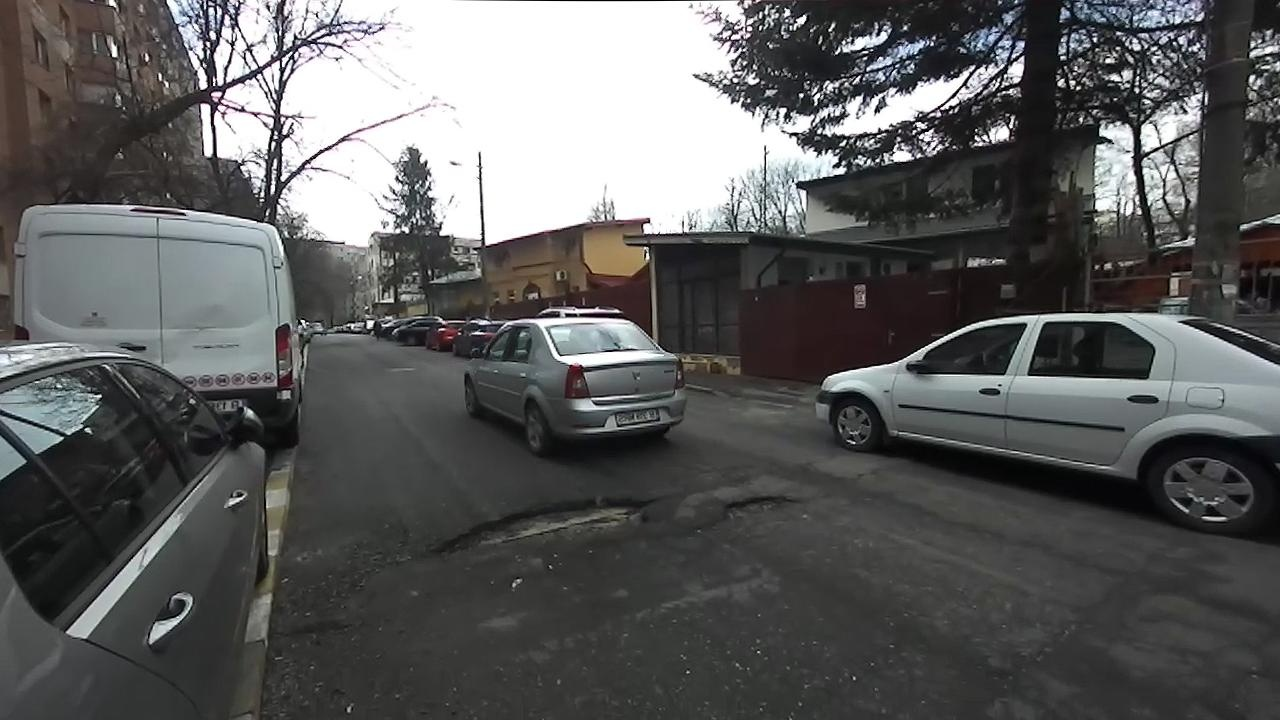pothole: (421, 488, 657, 563), (711, 488, 804, 527)
